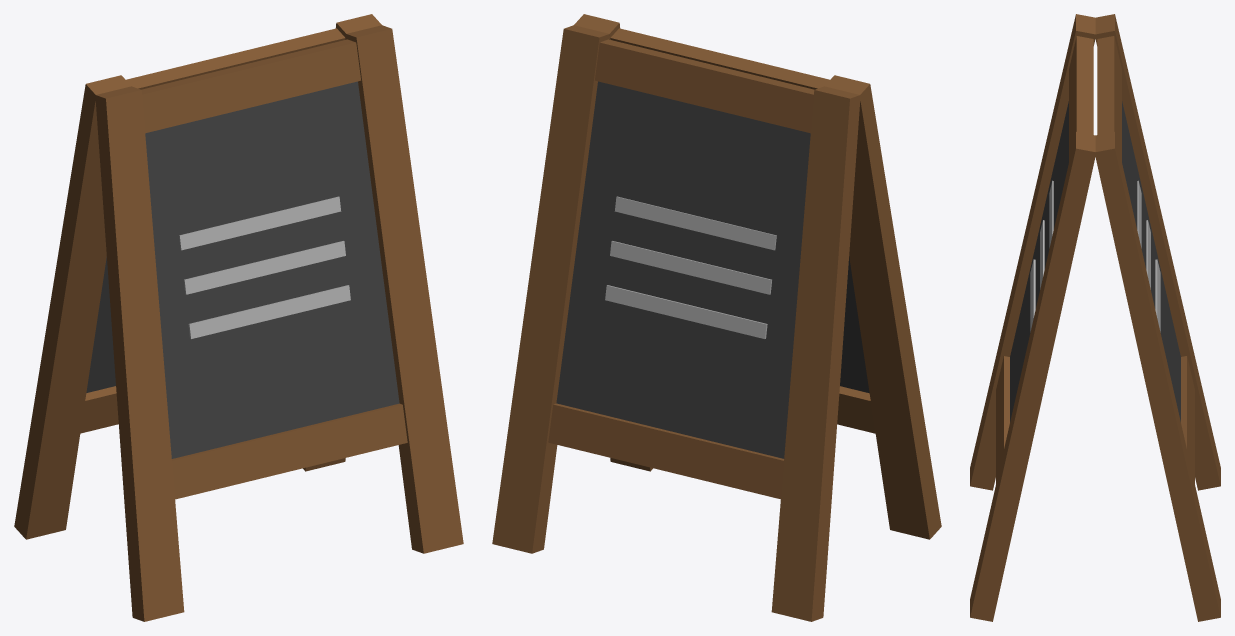
Rendered from SM_Props_Cafe_11.fbx.
The picture shows the model from 3 angles, left to right: view 1: azimuth 30°, elevation 25°; view 2: azimuth 150°, elevation 25°; view 3: azimuth 270°, elevation 25°; orthographic projection. The views are drawn at different scales.
Parts seen in each view (by area): view 1: SM_Props_Cafe_11; view 2: SM_Props_Cafe_11; view 3: SM_Props_Cafe_11.
Part boxes in pixels (box(x1,y1,x2,y2)): SM_Props_Cafe_11: box(14, 14, 463, 621); SM_Props_Cafe_11: box(492, 14, 941, 621); SM_Props_Cafe_11: box(970, 14, 1220, 621).
Size of the model in its own units: 0.5645 by 0.8167 by 0.3987.
